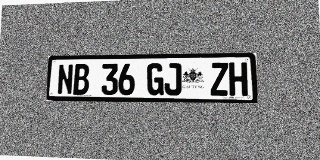3: (101, 64, 118, 95)
6: (118, 63, 135, 95)
B: (73, 64, 90, 95)
G: (147, 63, 164, 95)
H: (229, 62, 248, 96)
J: (164, 63, 182, 95)
N: (57, 64, 73, 95)
Z: (210, 62, 229, 96)
